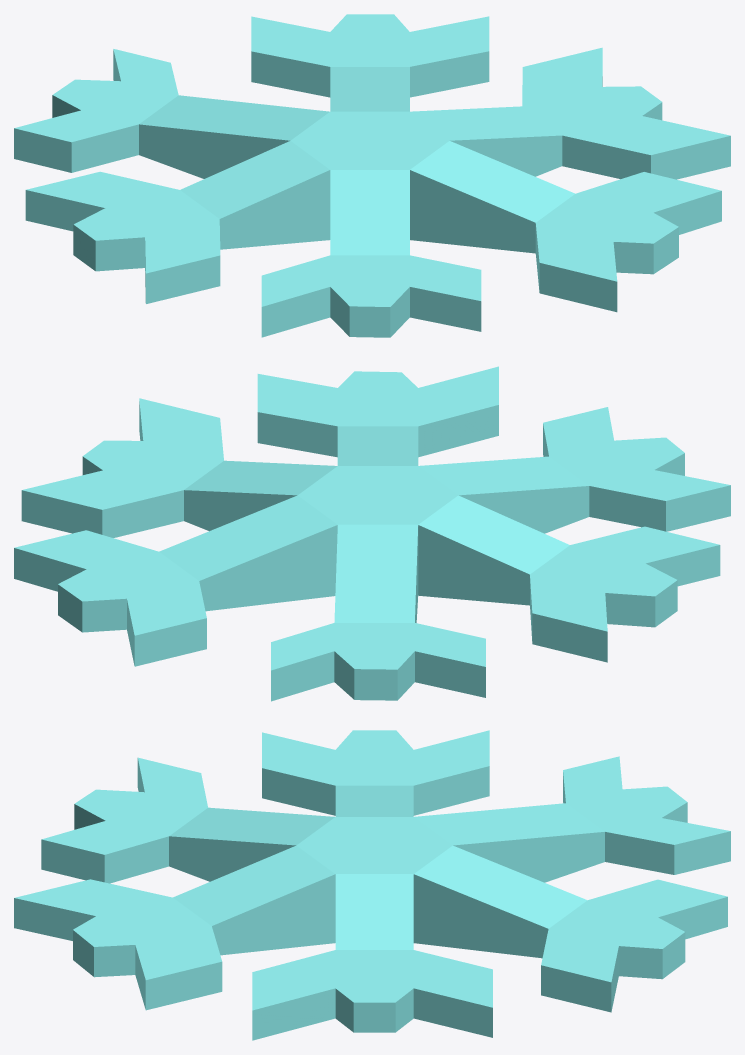
3 renders of one model, top to bottom at view 1: azimuth 30°, elevation 25°; view 2: azimuth 150°, elevation 25°; view 3: azimuth 270°, elevation 25°, orthographic. The views are drawn at different scales.
Visible parts, largest first — view 1: Walec; view 2: Walec; view 3: Walec.
Boxes of the visible parts, x1,y1,x2,y2 form: Walec: (14,14,730,337); Walec: (14,366,730,701); Walec: (14,730,730,1040).
Size of the model in its own units: 1595 by 183 by 1723.
